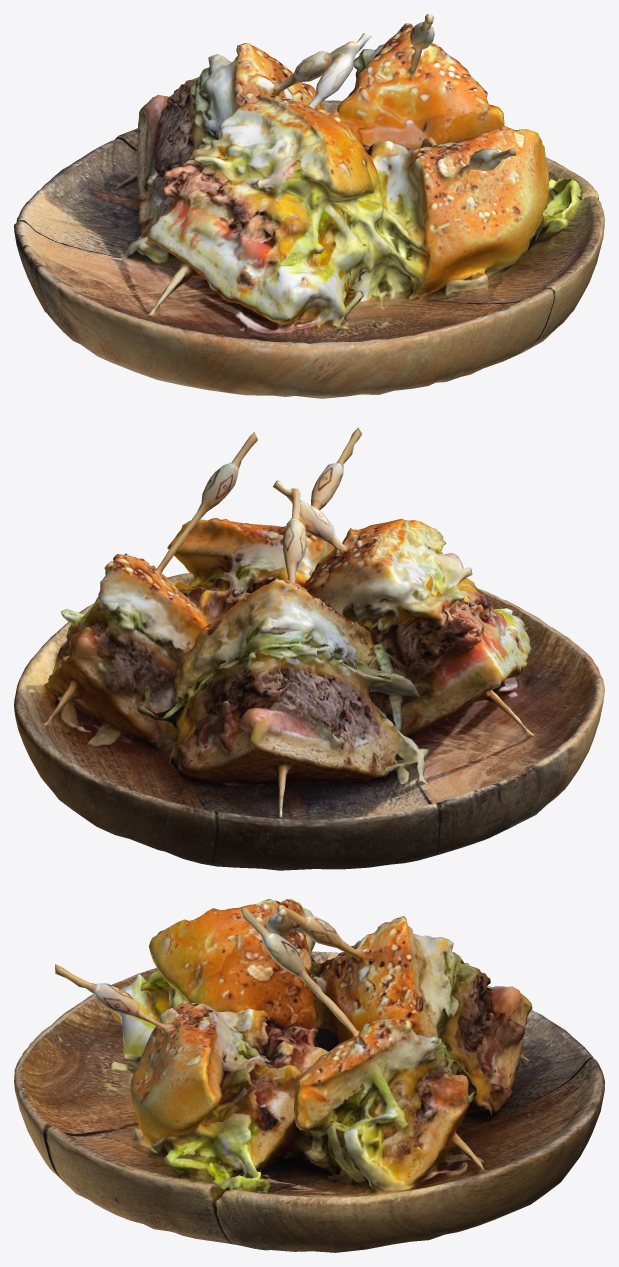
Rendered from los-amigos-burger.glb.
3 views of the same model, one above another, from view 1: azimuth 30°, elevation 25°; view 2: azimuth 150°, elevation 25°; view 3: azimuth 270°, elevation 25° (orthographic).
Parts seen in each view (by area): view 1: ObjectCapture; view 2: ObjectCapture; view 3: ObjectCapture.
Part boxes in pixels (x1=…): ObjectCapture: x1=14, y1=14, x2=604, y2=398; ObjectCapture: x1=14, y1=427, x2=604, y2=870; ObjectCapture: x1=14, y1=899, x2=604, y2=1252.
Size of the model in its own units: 0.1958 by 0.1056 by 0.1973.
1 material, 1 textured.
